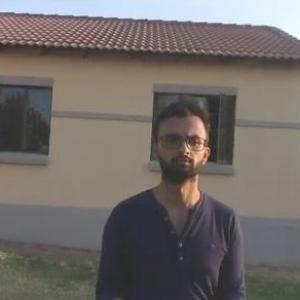follow: (90, 91, 251, 299)
